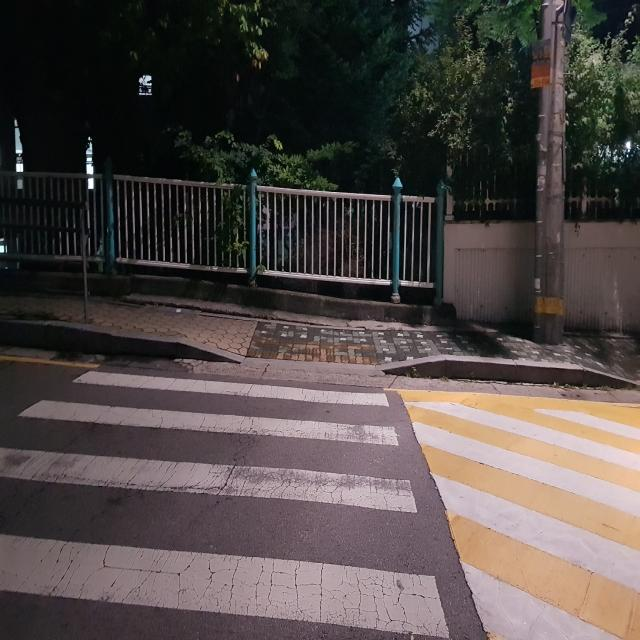횡단보도: (0, 362, 454, 640)
